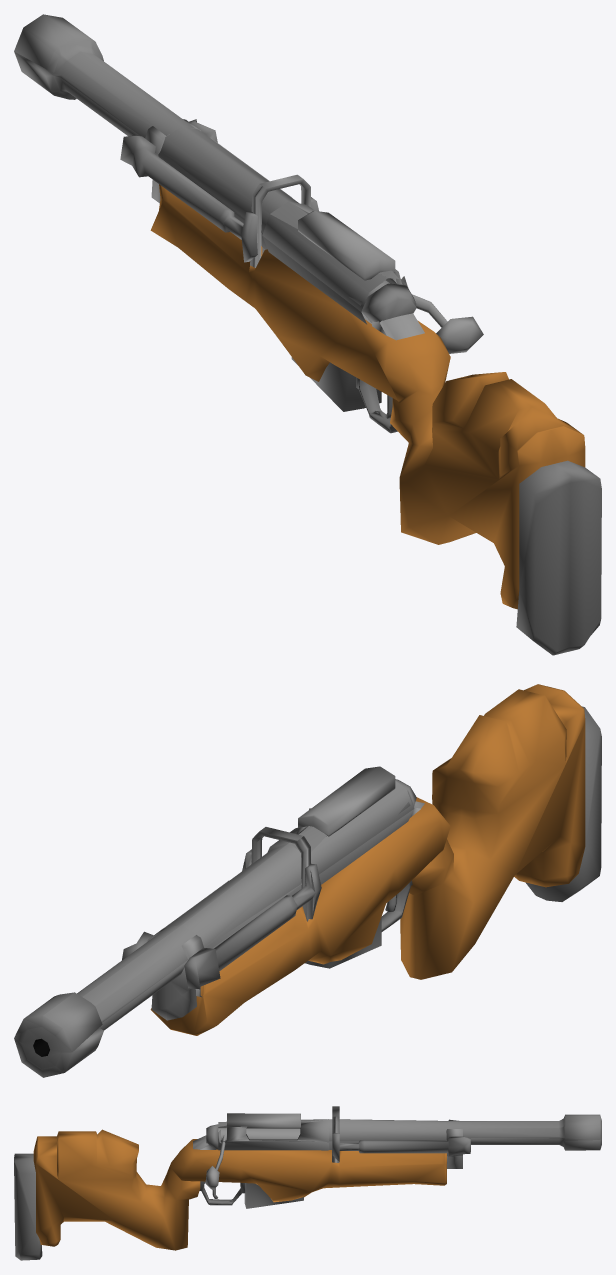
File: rifle-3.fbx
3 views of the same model, one above another, from view 1: azimuth 30°, elevation 25°; view 2: azimuth 150°, elevation 25°; view 3: azimuth 270°, elevation 25° (orthographic). The views are drawn at different scales.
Visible parts, largest first — view 1: trg; view 2: trg; view 3: trg.
Part boxes in pixels (<box>): trg: <box>14,14,601,655</box>; trg: <box>14,684,601,1077</box>; trg: <box>14,1106,601,1260</box>.
Size of the model in its own units: 13.55 by 26.24 by 96.16.
